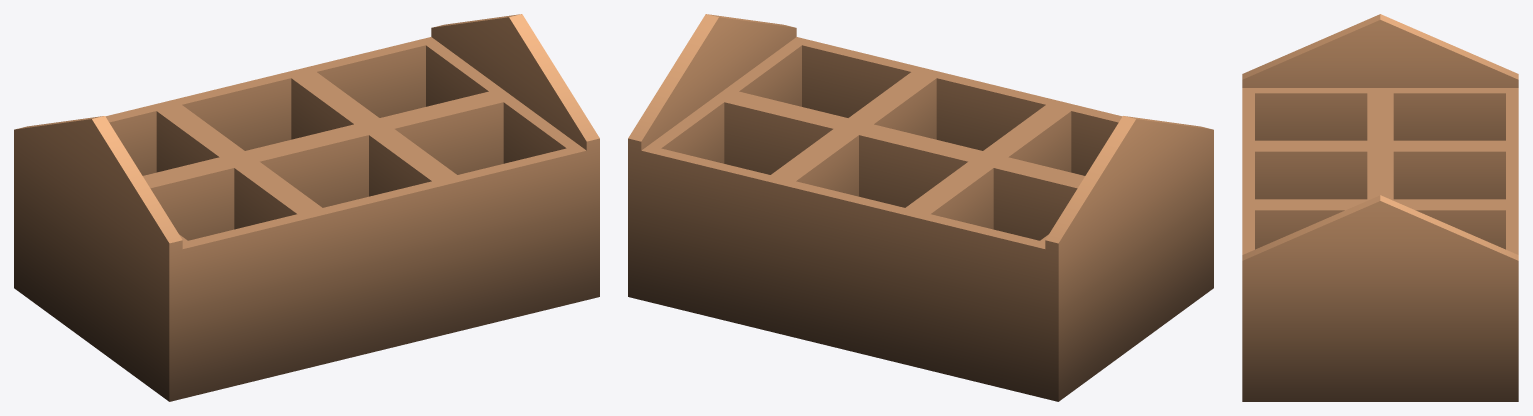
File: Bottle Box.glb
3 views of the same model, side by side, from view 1: azimuth 30°, elevation 25°; view 2: azimuth 150°, elevation 25°; view 3: azimuth 270°, elevation 25° (orthographic). The views are drawn at different scales.
Parts seen in each view (by area): view 1: Bottle Box; view 2: Bottle Box; view 3: Bottle Box.
Part boxes in pixels (x1,y1,x2,y2): Bottle Box: (14, 14, 599, 401); Bottle Box: (628, 14, 1213, 401); Bottle Box: (1242, 14, 1518, 401).
Size of the model in its own units: 1.45 by 0.7329 by 0.9092.
Materials: 1 (1 with a texture image).
